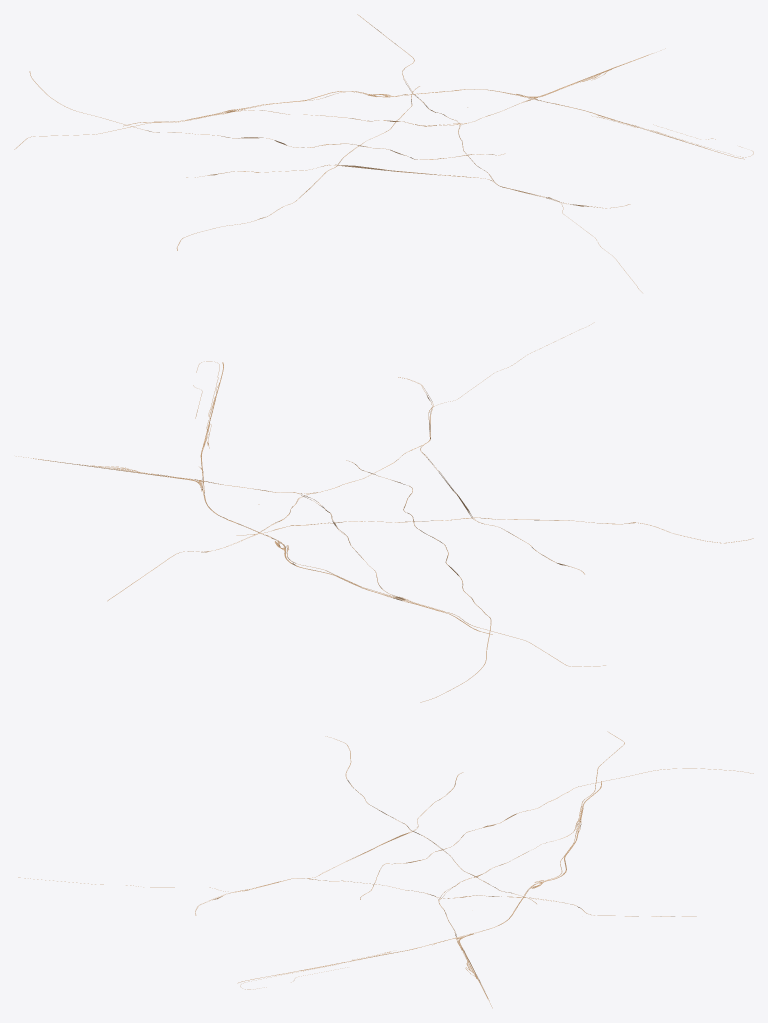
The model's file is rail.glb.
The picture shows the model from 3 angles, top to bottom: view 1: azimuth 30°, elevation 25°; view 2: azimuth 150°, elevation 25°; view 3: azimuth 270°, elevation 25°; orthographic projection. The views are drawn at different scales.
Parts seen in each view (by area): view 1: rail; view 2: rail; view 3: rail.
Boxes of the visible parts, left/top/right/bottom form: rail: left=14, top=14, right=753, bottom=292; rail: left=16, top=322, right=753, bottom=702; rail: left=18, top=731, right=753, bottom=1008.
Bounding box in the file's own units: 13253 × 128 × 14931.
